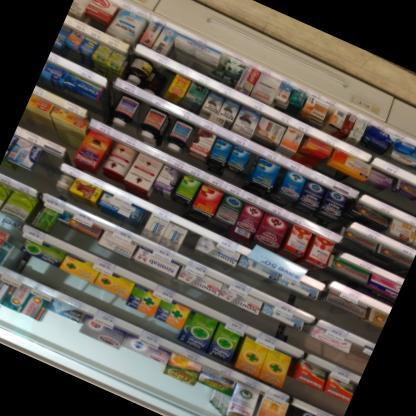empty_space: (28, 151, 64, 193), (386, 187, 416, 222), (341, 343, 372, 376), (128, 103, 150, 138), (146, 62, 174, 88)
